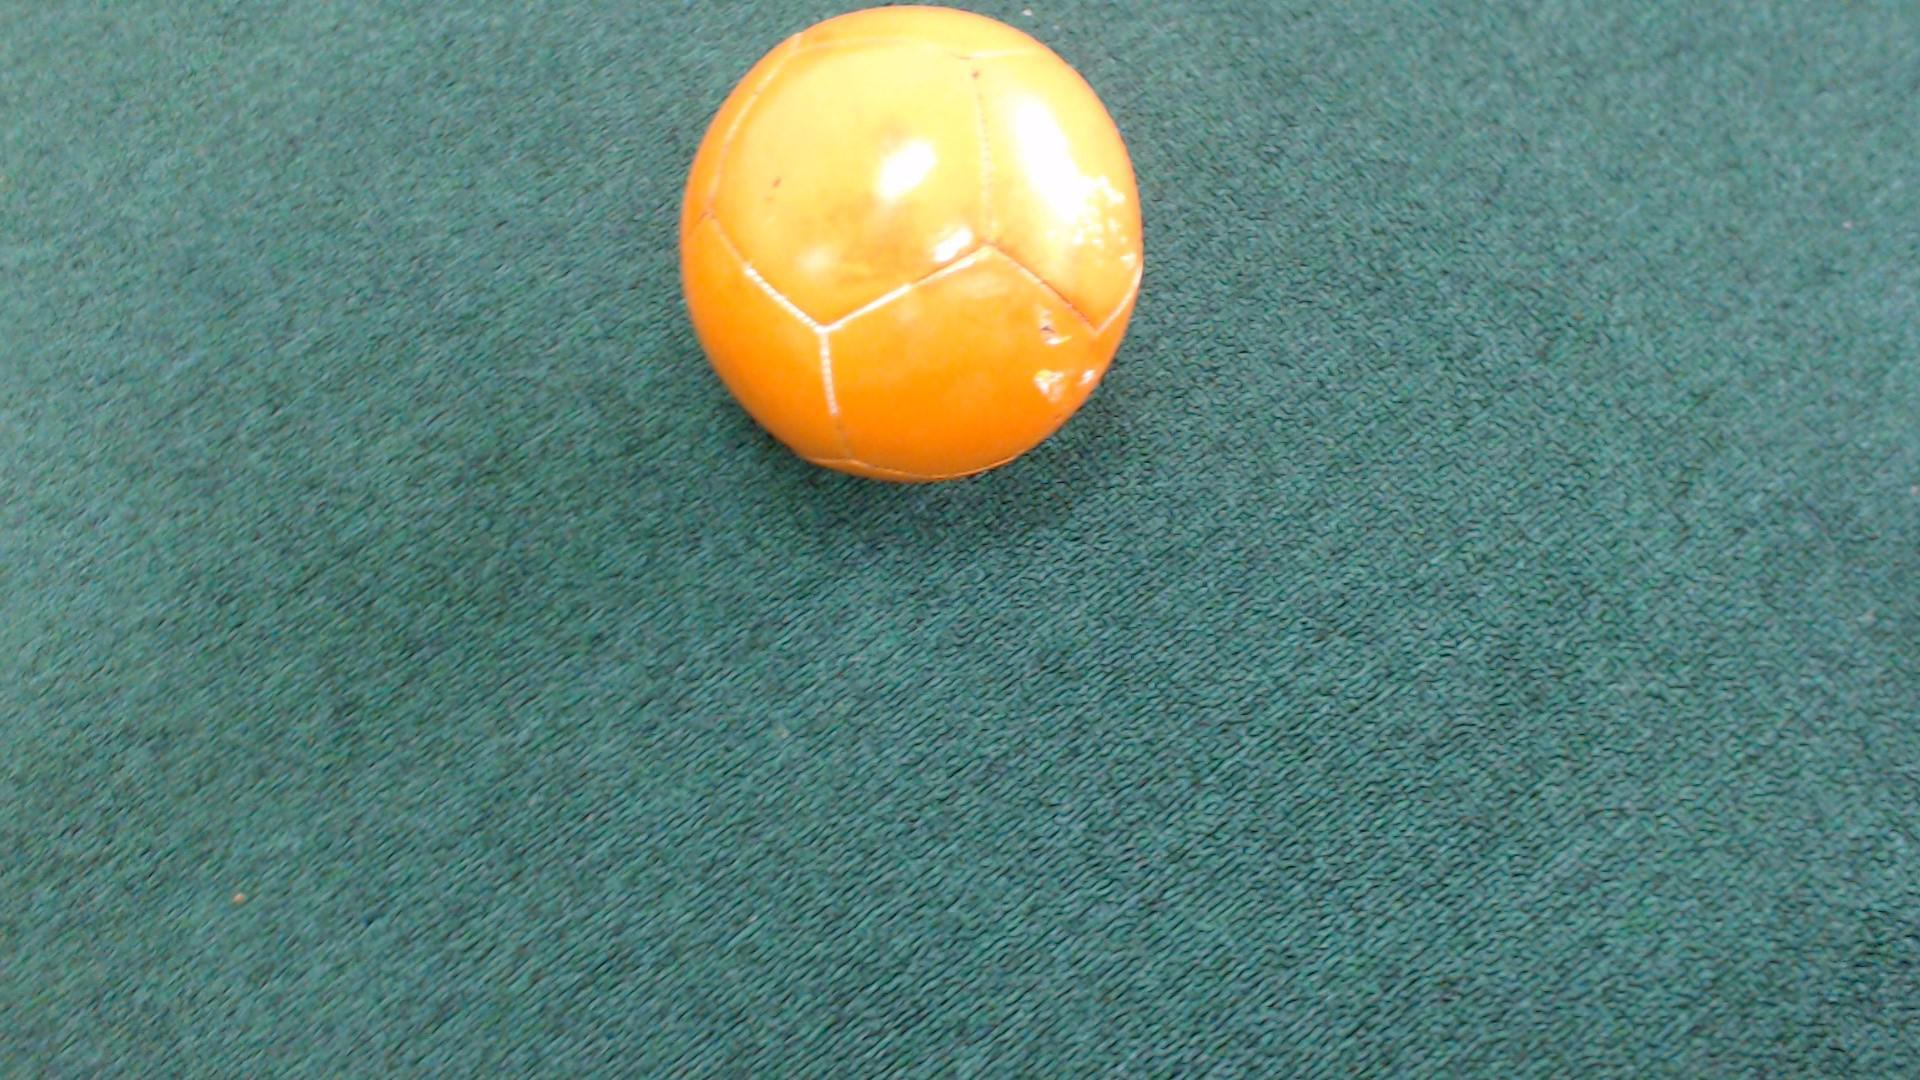bola: (634, 0, 1209, 517)
